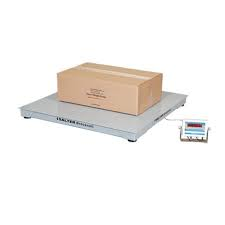Industrial Scale: (16, 90, 212, 144)
